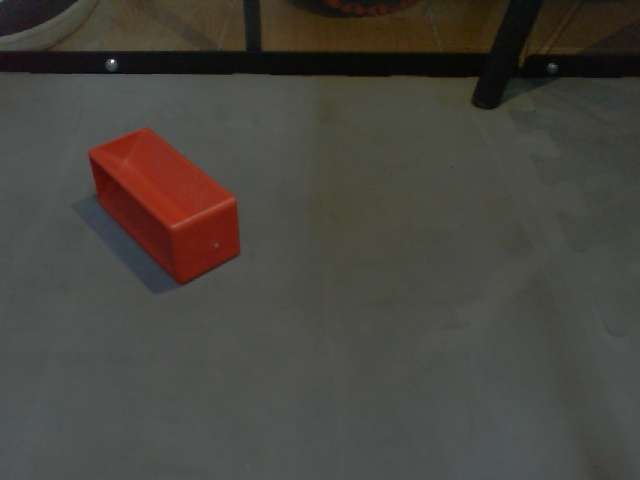RedSample: (82, 126, 242, 284)
